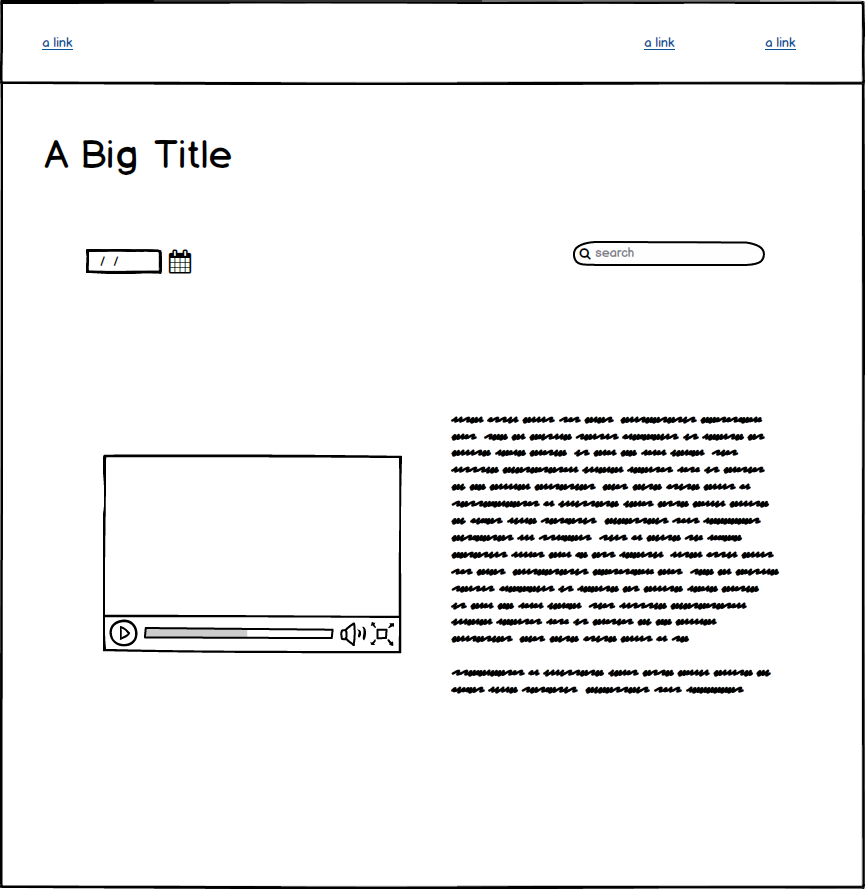date_picker: (74, 233, 197, 285)
h1: (34, 127, 241, 186)
navlink: (638, 25, 686, 61), (32, 27, 84, 59), (757, 25, 803, 59)
p: (451, 406, 787, 709)
search: (567, 233, 774, 275)
video: (101, 447, 407, 661)
